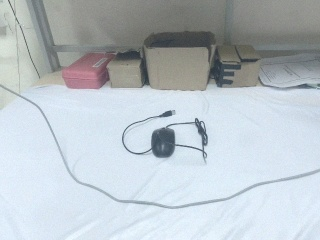box: (143, 28, 219, 93), (211, 42, 263, 89), (60, 49, 116, 92), (107, 48, 148, 90)
mouse: (150, 127, 176, 158)
